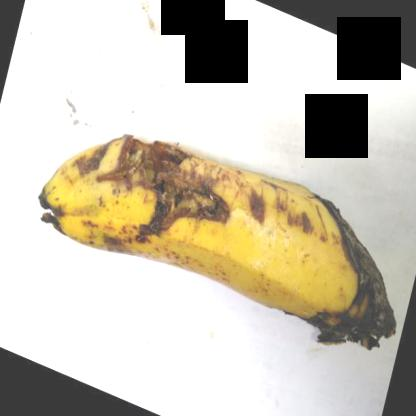rotten: (26, 93, 258, 252), (293, 161, 413, 394)
